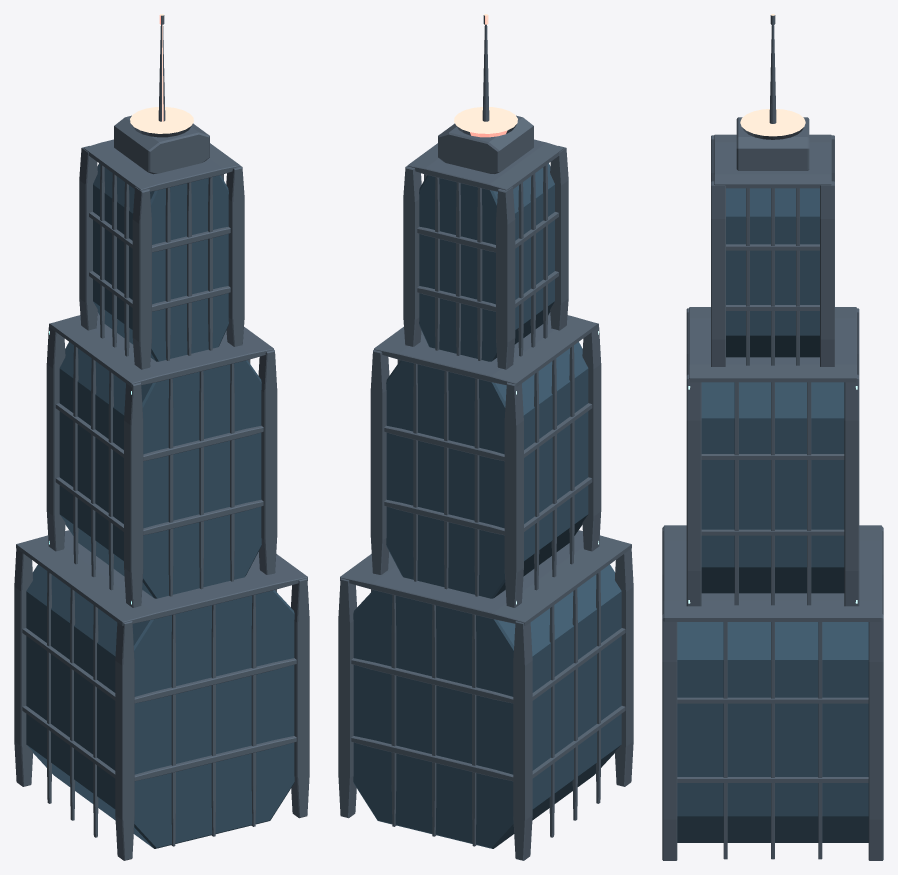
Rendered from tower.glb.
The picture shows the model from 3 angles, left to right: view 1: azimuth 30°, elevation 25°; view 2: azimuth 150°, elevation 25°; view 3: azimuth 270°, elevation 25°; orthographic projection. The views are drawn at different scales.
Visible parts, largest first — view 1: tower; view 2: tower; view 3: tower.
Part boxes in pixels (x1,y1,x2,y2): tower: [14, 14, 309, 860]; tower: [338, 14, 633, 860]; tower: [662, 14, 883, 860].
Size of the model in its own units: 35.04 by 140 by 35.04.
